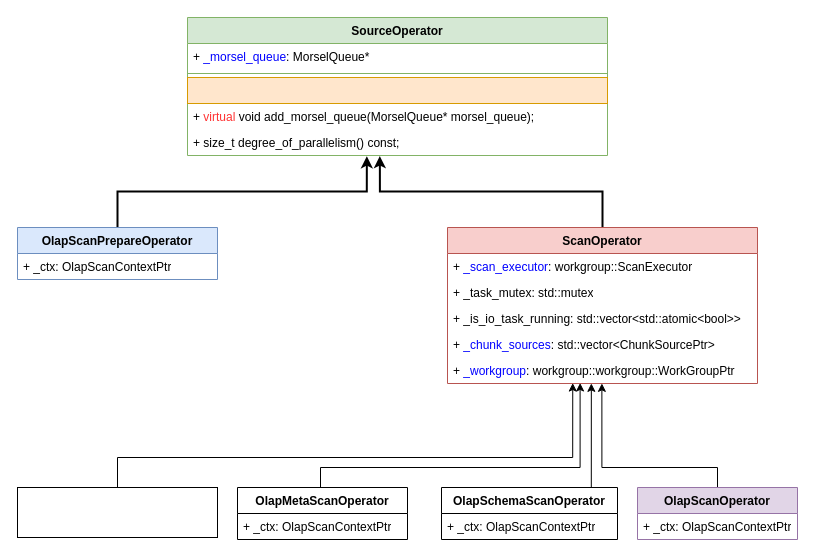
The diagram is 823 pixels wide and 560 high, and some of its shapes have lost their labels. Each missing label, with the centre of its shape:
+ StatusOr<vectorized::ChunkPtr> pull_chunk(RuntimeState* state) override;: [397,90]
ConnectorScanOperatorName: [117,512]
